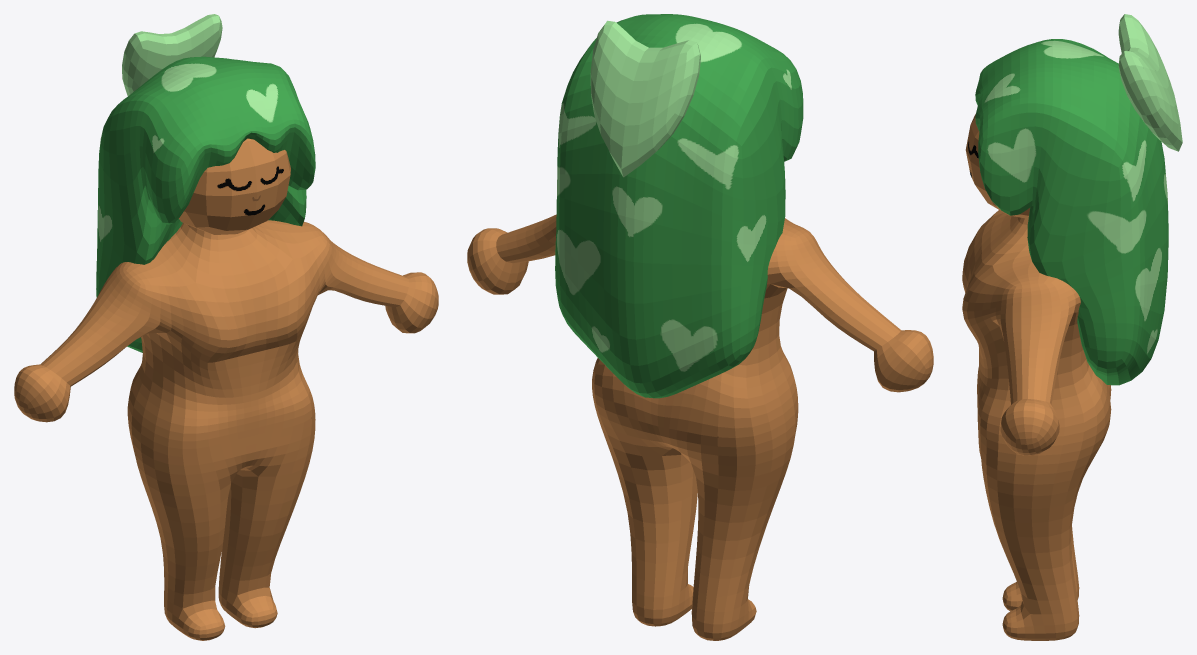
The model's file is batatita.fbx.
3 views of the same model, side by side, from view 1: azimuth 30°, elevation 25°; view 2: azimuth 150°, elevation 25°; view 3: azimuth 270°, elevation 25° (orthographic). The views are drawn at different scales.
Parts seen in each view (by area): view 1: Body, Hair, Head, Leaf; view 2: Hair, Body, Leaf; view 3: Hair, Body, Leaf, Head.
Part boxes in pixels (<box>): Body: <box>14,220,438,640</box>; Hair: <box>96,56,315,352</box>; Head: <box>179,138,290,234</box>; Leaf: <box>122,14,222,95</box>; Hair: <box>555,14,803,398</box>; Body: <box>467,214,933,640</box>; Leaf: <box>590,20,700,177</box>; Hair: <box>975,39,1168,385</box>; Body: <box>962,210,1111,640</box>; Leaf: <box>1118,14,1182,151</box>; Head: <box>965,114,1030,218</box>.
Size of the model in its own units: 1.22 by 1.58 by 0.5379.
Materials: 1 (1 with a texture image).
